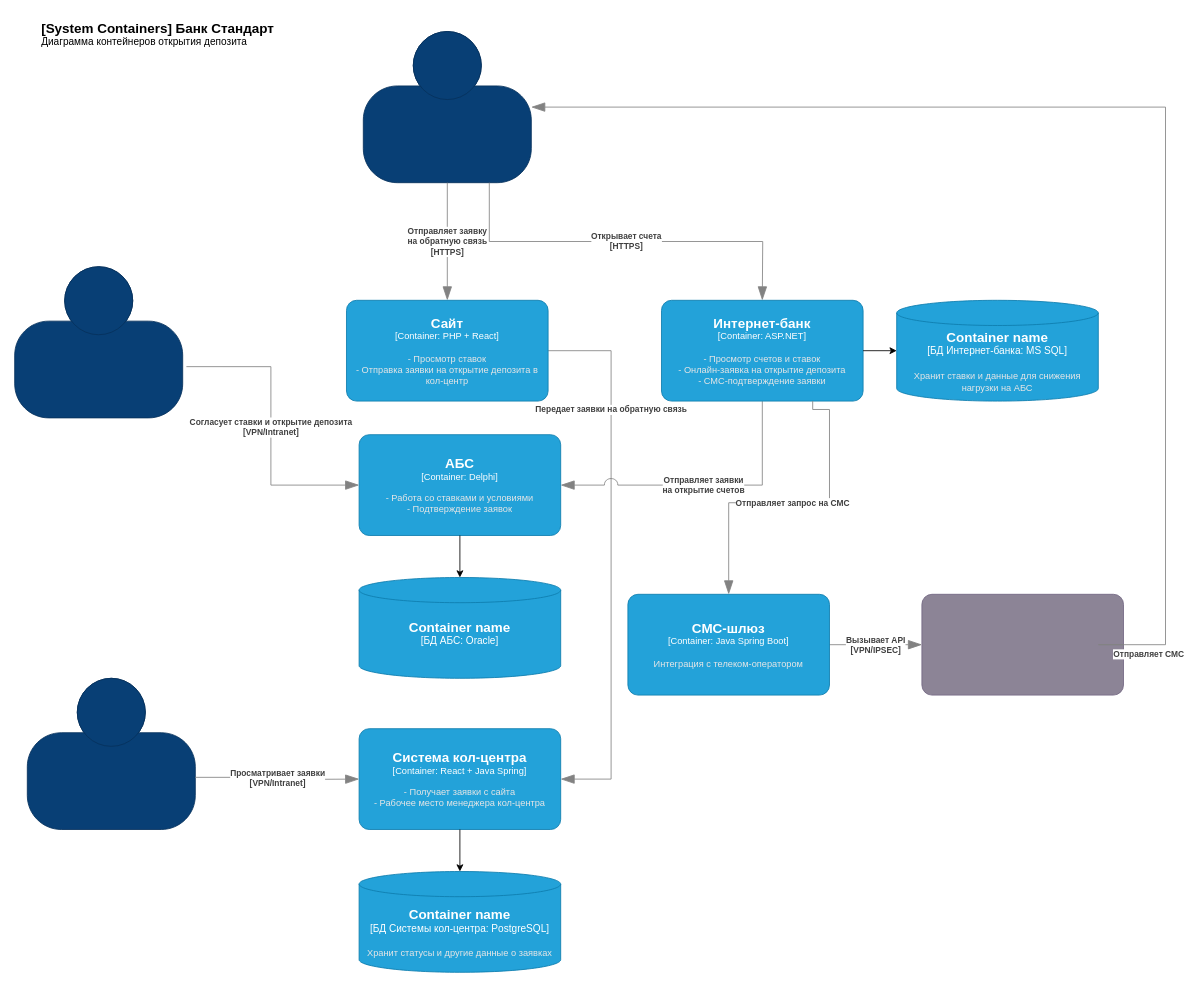
Some shapes in this 1199 by 987 pixel diagram are drawn without their labels. The shapes that lost their labels are listed below. From the top down, each one's centre as x and y in pixels, then its label:
At point (446, 107): "Клиент [Person] Взаимодействует через сайт и интернет-банк".
At point (98, 342): "Сотрудник бэк-офиса [Person]".
At point (1022, 644): "Телеком-оператор [External Software System]".
At point (110, 753): "Сотрудник кол-центра [Person]".
